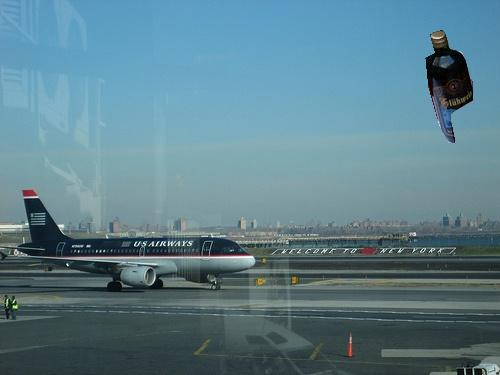tampered: (426, 31, 473, 143)
